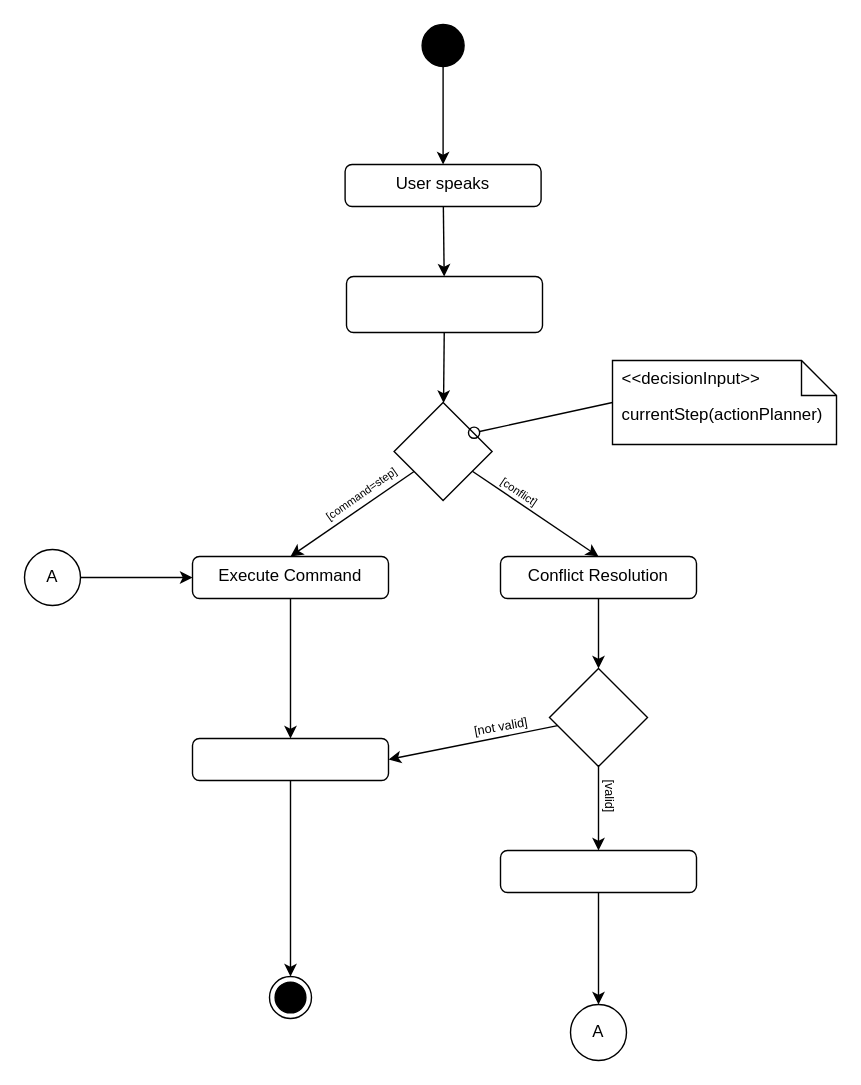
This 861x1085 diagram has some shape labels left out. Here are the shapes that lost their labels. From the top down, the box of each, then its label:
(345, 275, 542, 332): Processing and interpreting
(191, 737, 388, 780): Notify User
(499, 849, 696, 892): Modify Plan
